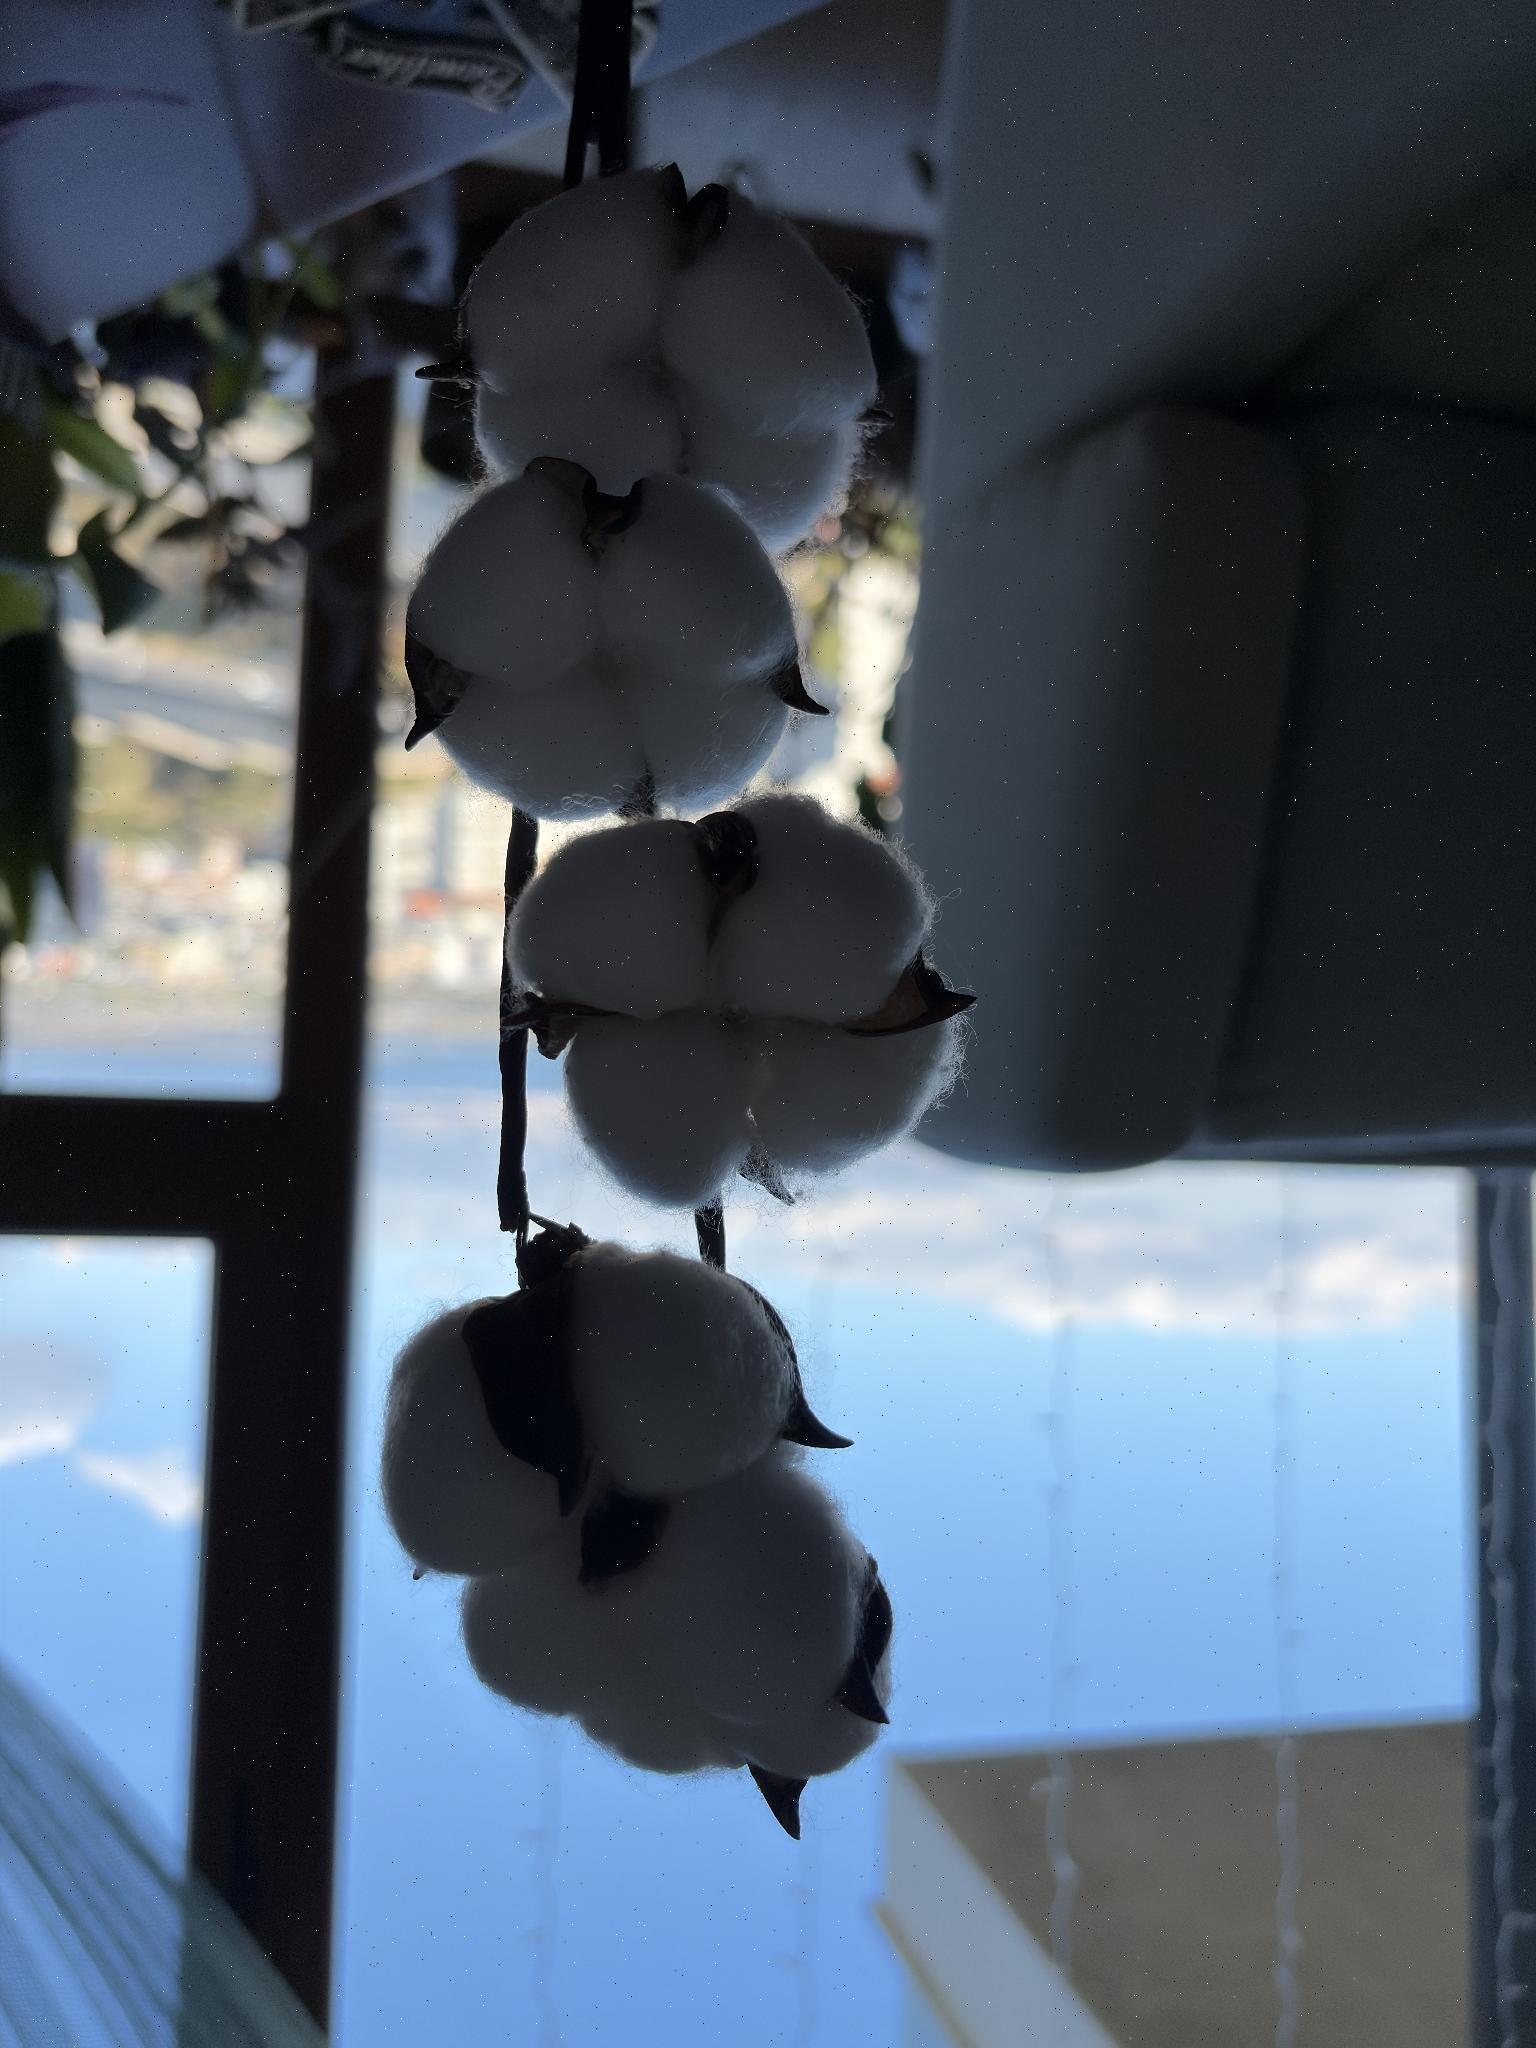cotton_boll: (611, 1459, 865, 1725), (570, 1247, 800, 1498), (660, 192, 876, 440), (713, 795, 929, 1024), (382, 1311, 560, 1577), (466, 176, 673, 392), (510, 819, 715, 1019), (600, 476, 794, 682), (408, 479, 597, 689), (461, 1530, 658, 1719), (566, 1013, 752, 1209), (752, 1019, 960, 1179), (440, 671, 642, 821), (476, 366, 681, 492), (626, 669, 791, 813), (684, 421, 860, 555), (579, 1692, 745, 1775), (726, 1698, 883, 1780), (541, 419, 541, 419)
cotton_boll-cluster: (376, 1240, 884, 1787), (502, 789, 968, 1219), (455, 164, 883, 563), (403, 464, 799, 829)
